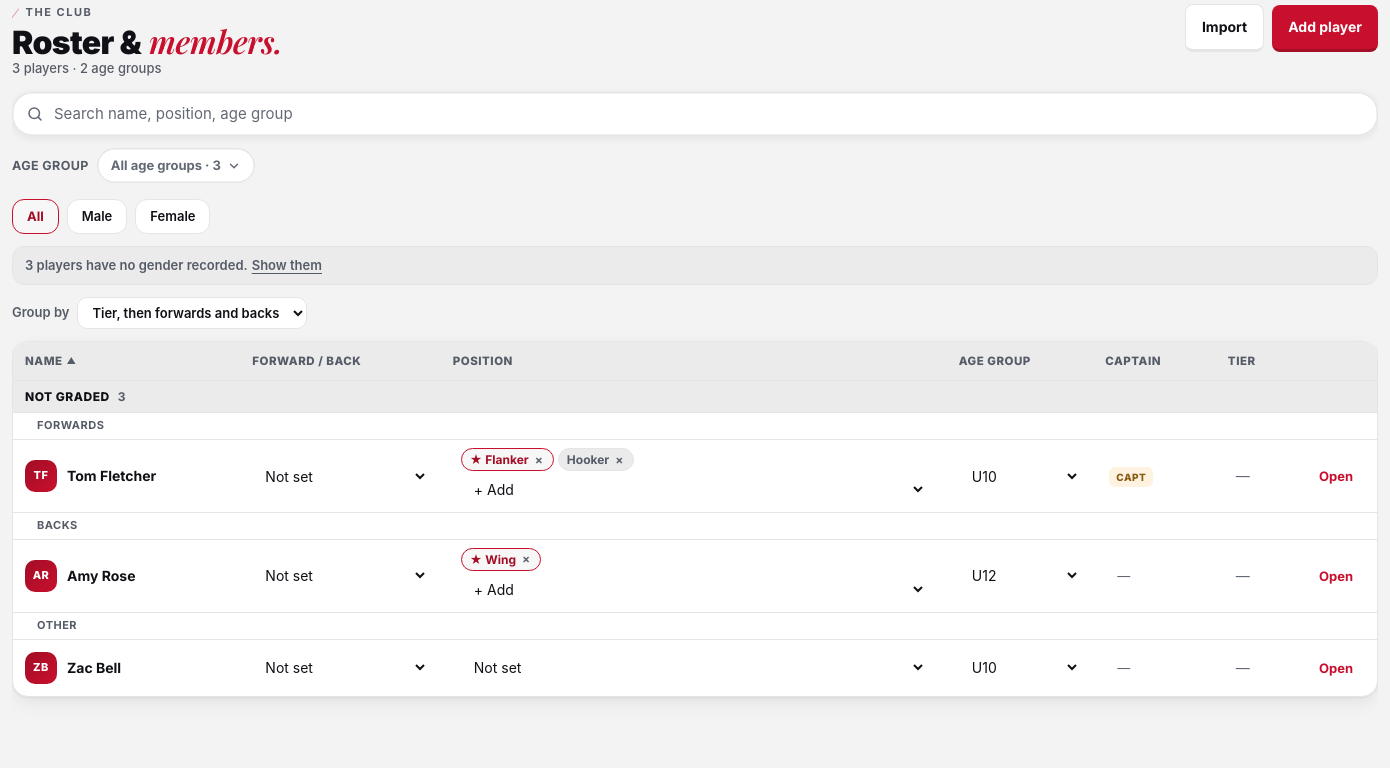
RosterTable — inline editing › removing the main promotes the next one
Expected: the table with test id "roster-table" is shown, [13, 342, 1377, 696]
What coordinates should you click on to do the following:
click the button named "Remove Flanker from Tom Fletcher"
I would click on:
 (539, 460)
Its box is [533, 454, 545, 466].
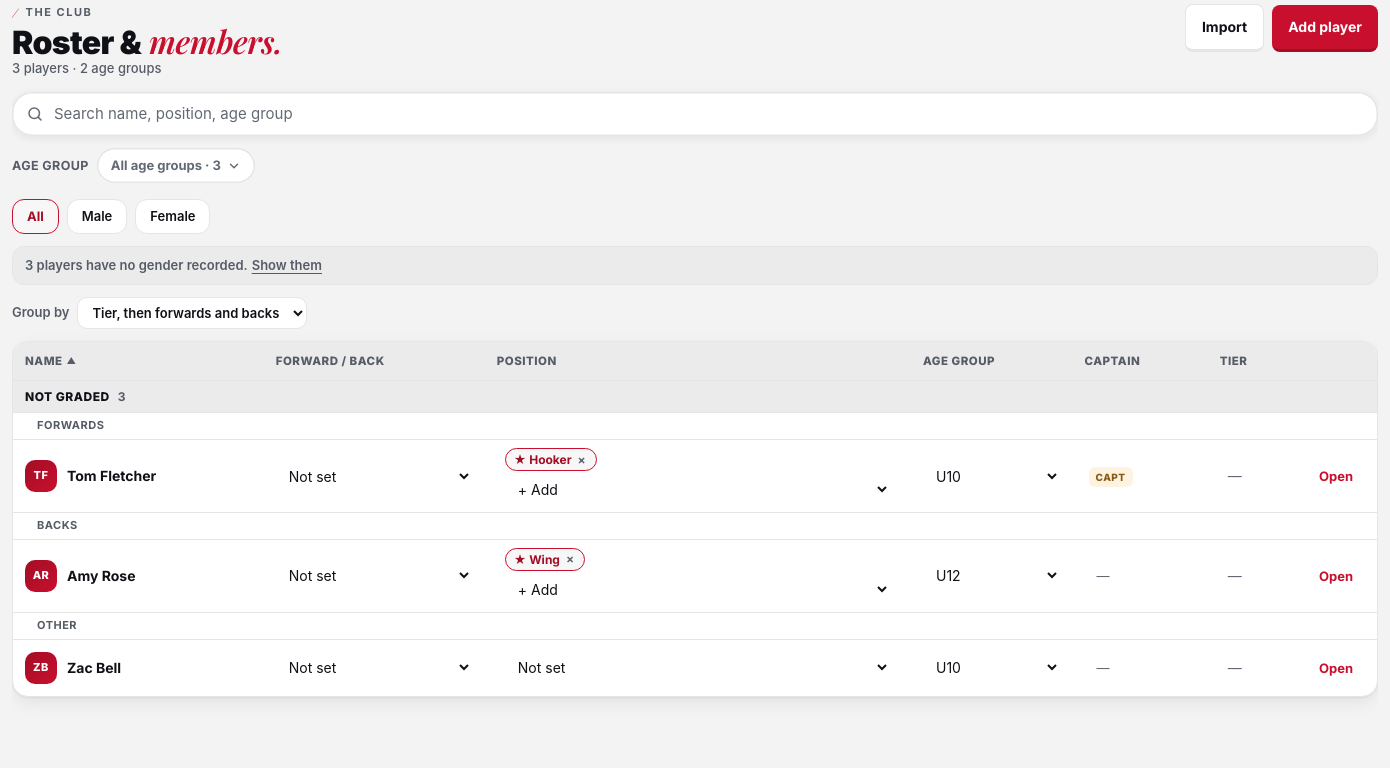
Expected: the button with aria-label "Hooker, main position for Tom Fletcher" is shown, [514, 450, 572, 469]
